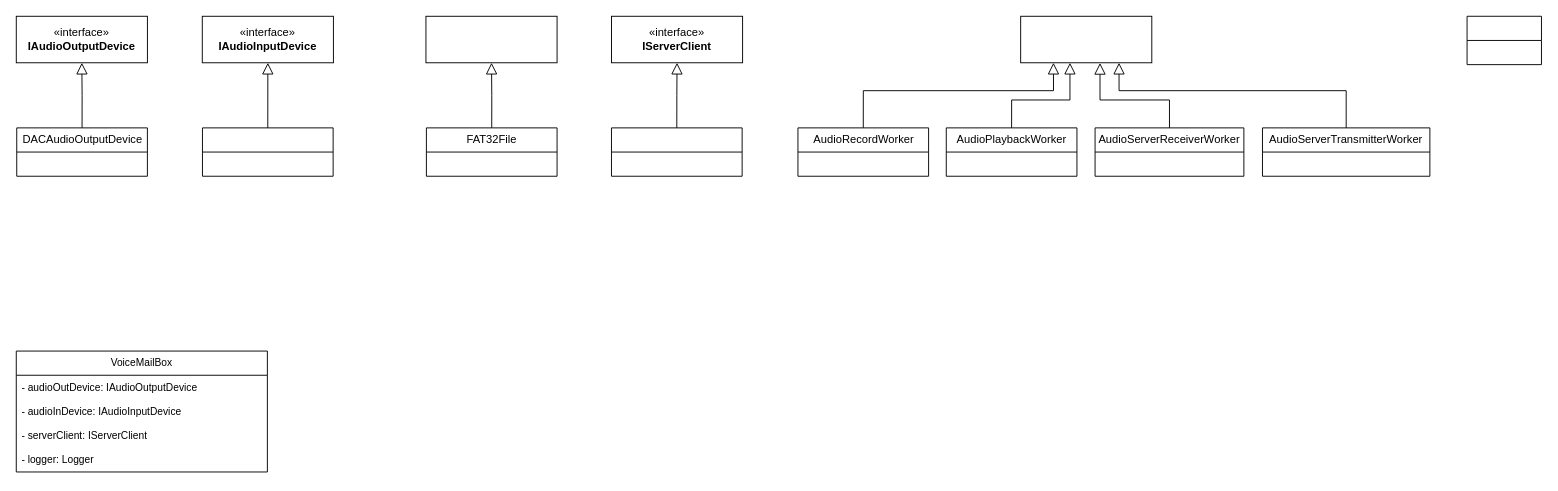
Some shapes in this 1558 by 491 pixel diagram are drawn without their labels. The shapes that lost their labels are listed below. From the top down, each one's centre as x and y in pixels, then its label:
At pixel 491 39: "«interface» IFile".
At pixel 1086 39: "«interface» IChunkWorker".
At pixel 1503 40: "Logger".
At pixel 267 151: "ADCAudioInputDevice".
At pixel 676 151: "WiFiServerClient".
